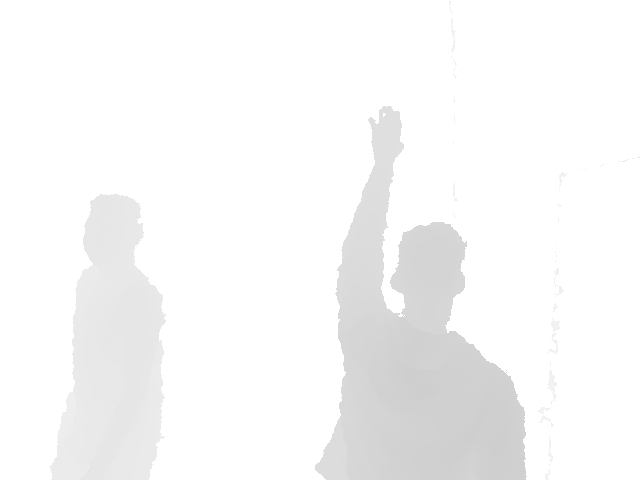hand: (367, 106, 405, 164)
head: (390, 222, 467, 327), (82, 193, 145, 263)
person: (313, 106, 528, 479), (49, 193, 167, 480)
